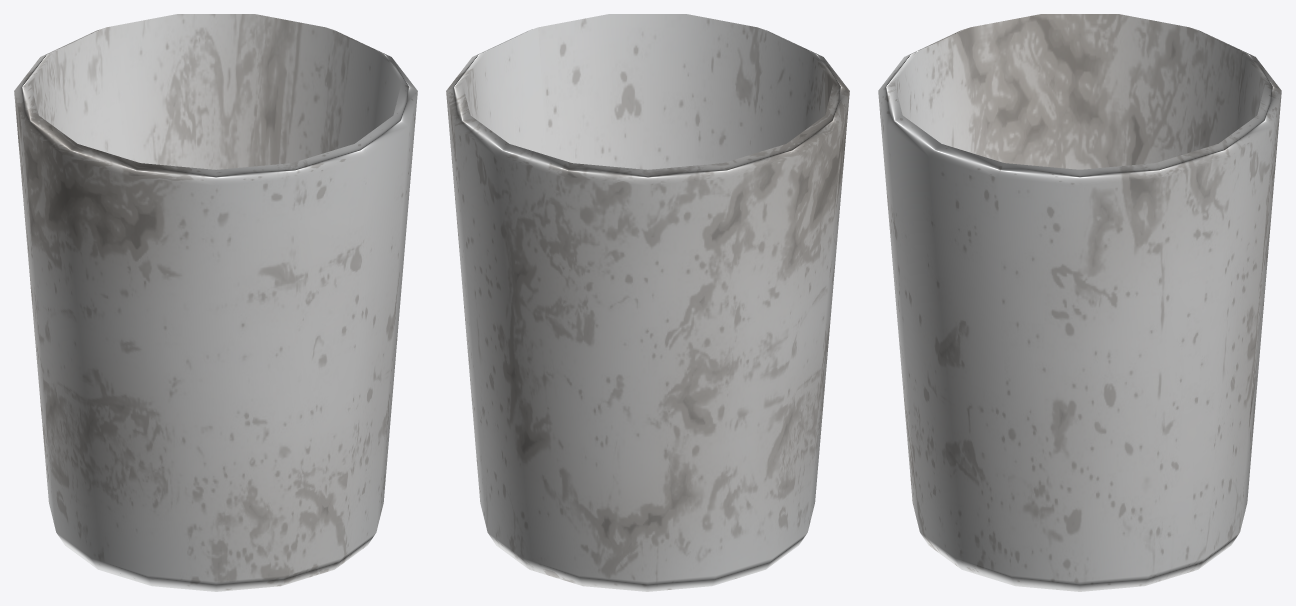
The model's file is GlassShot.fbx.
3 renders of one model, left to right at view 1: azimuth 30°, elevation 25°; view 2: azimuth 150°, elevation 25°; view 3: azimuth 270°, elevation 25°, orthographic.
Visible parts, largest first — view 1: Default_Layer; view 2: Default_Layer; view 3: Default_Layer.
Boxes of the visible parts, <box> form: Default_Layer: <box>14,14,417,591</box>; Default_Layer: <box>446,14,849,591</box>; Default_Layer: <box>878,14,1281,591</box>.
Size of the model in its own units: 10.48 by 12.5 by 10.54.
